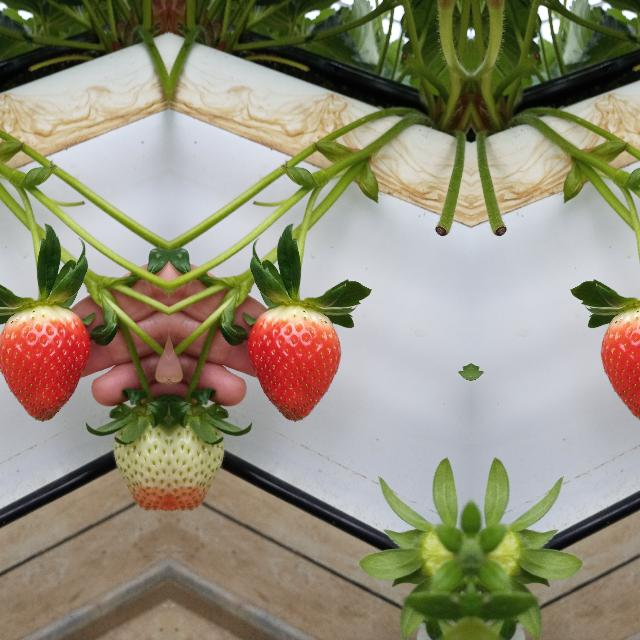Health_100: (246, 304, 340, 422), (0, 304, 90, 421), (600, 304, 640, 421)
Health_50: (170, 382, 226, 514), (110, 382, 166, 514)
